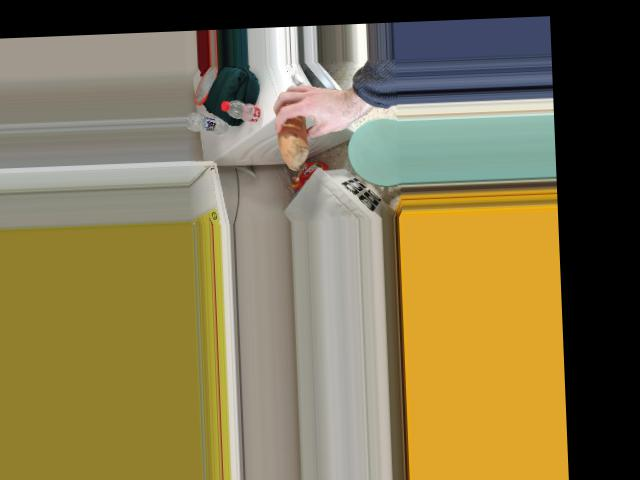sweet_potato: (276, 113, 308, 158)
